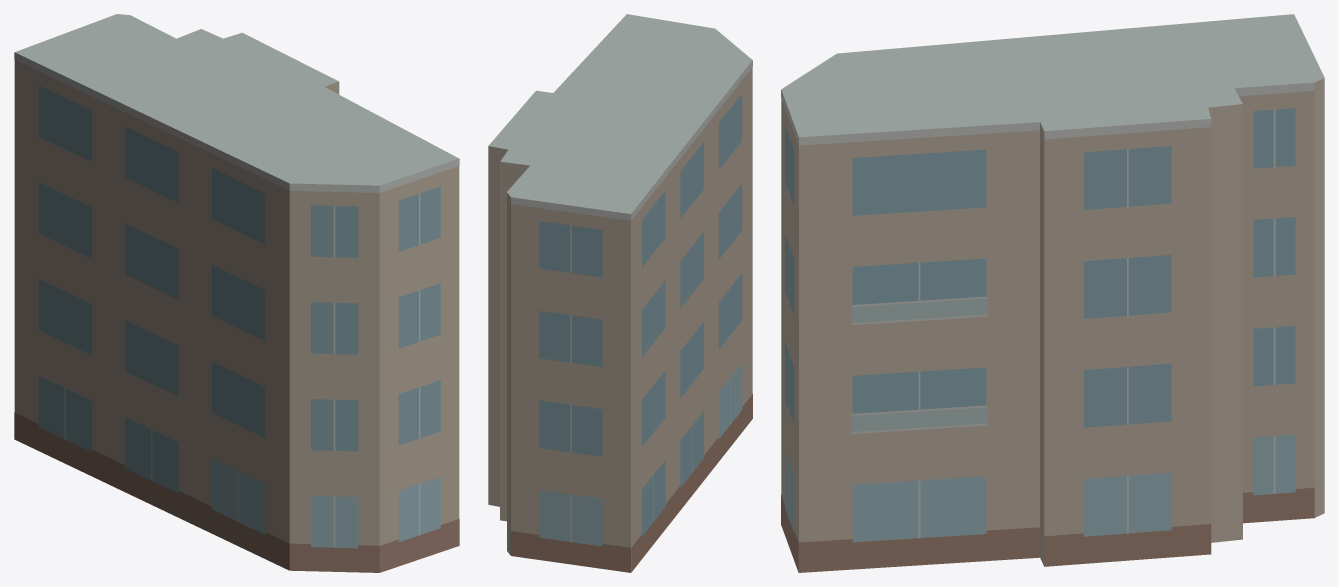
The model's file is survey-upis-32474085.glb.
3 renders of one model, left to right at view 1: azimuth 30°, elevation 25°; view 2: azimuth 150°, elevation 25°; view 3: azimuth 270°, elevation 25°, orthographic. The views are drawn at different scales.
Visible parts, largest first — view 1: survey-upis-32474085.tmp; view 2: survey-upis-32474085.tmp; view 3: survey-upis-32474085.tmp.
Part boxes in pixels (x1,y1,x2,y2): survey-upis-32474085.tmp: [14, 14, 459, 572]; survey-upis-32474085.tmp: [488, 14, 752, 572]; survey-upis-32474085.tmp: [781, 14, 1324, 572].
Size of the model in its own units: 7.84 by 12.9 by 14.6.
